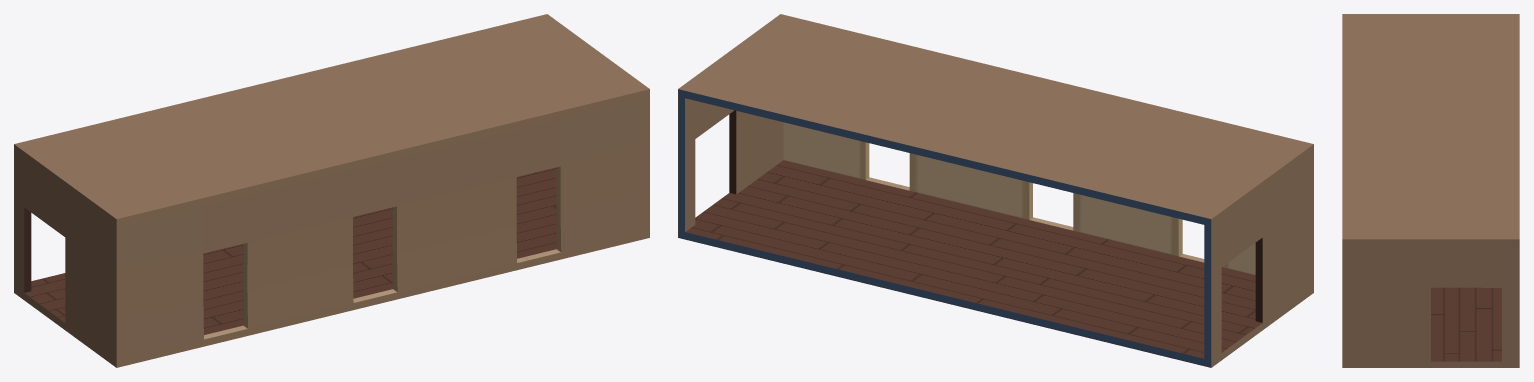
Rendered from Hallway3UP_3Doors.fbx.
3 views of the same model, side by side, from view 1: azimuth 30°, elevation 25°; view 2: azimuth 150°, elevation 25°; view 3: azimuth 270°, elevation 25° (orthographic). The views are drawn at different scales.
Parts seen in each view (by area): view 1: up3_3doors; view 2: up3_3doors; view 3: up3_3doors.
Part boxes in pixels (x1,y1,x2,y2): up3_3doors: (14,14,649,367); up3_3doors: (678,14,1313,367); up3_3doors: (1342,14,1519,367).
Bounding box in the file's own units: 1501 × 400 × 500.
